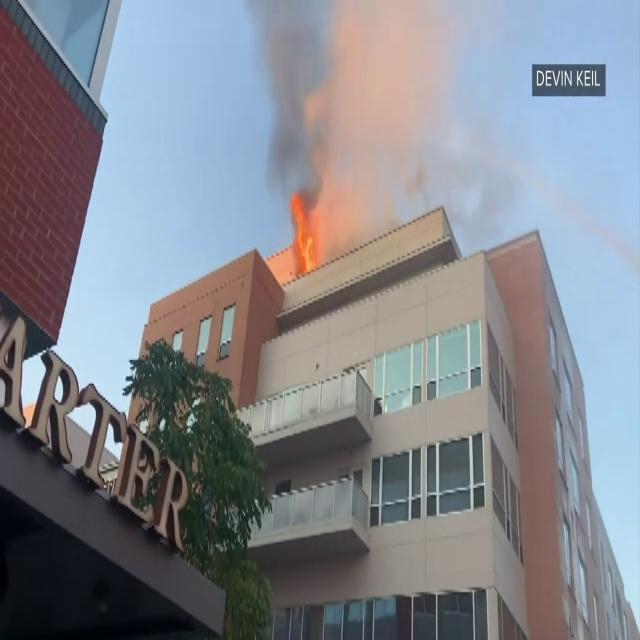Fire: (288, 193, 320, 274)
Smoke: (243, 1, 484, 243)
